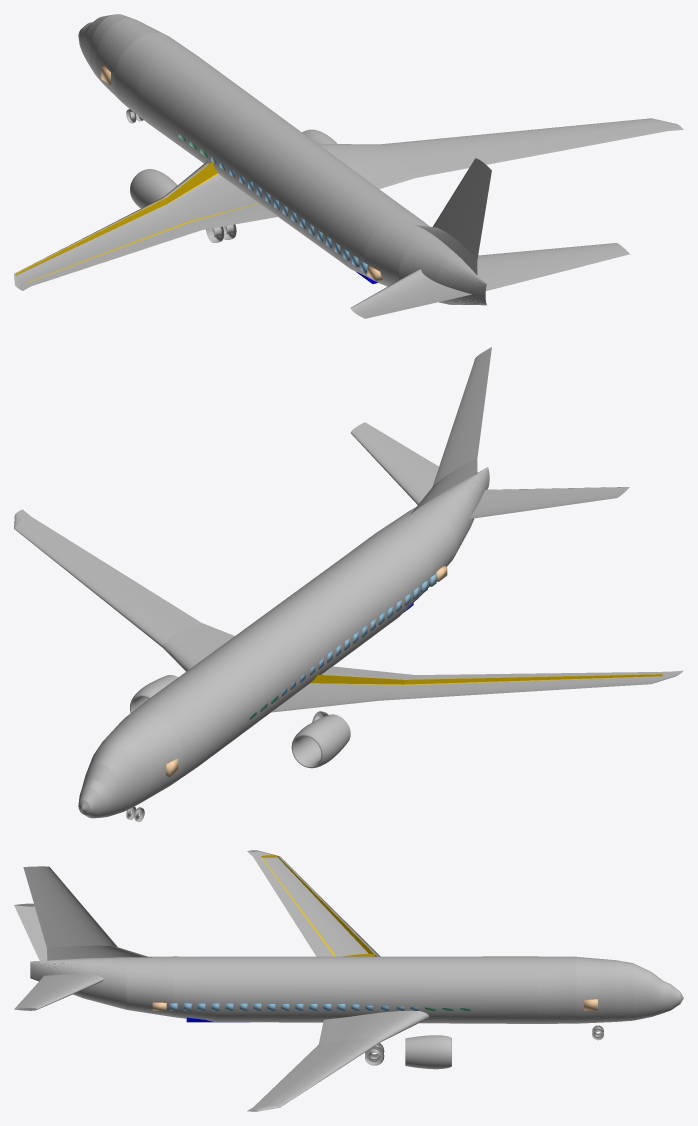
The model's file is Boeing_737_800.gltf.
3 views of the same model, one above another, from view 1: azimuth 30°, elevation 25°; view 2: azimuth 150°, elevation 25°; view 3: azimuth 270°, elevation 25° (orthographic). The views are drawn at different scales.
Parts seen in each view (by area): view 1: Renderer Node; view 2: Renderer Node; view 3: Renderer Node.
Boxes of the visible parts, left/top/right/bottom form: Renderer Node: left=14, top=14, right=683, bottom=318; Renderer Node: left=14, top=347, right=683, bottom=821; Renderer Node: left=14, top=850, right=683, bottom=1111.
Size of the model in its own units: 35.8 by 11.2 by 38.97.
